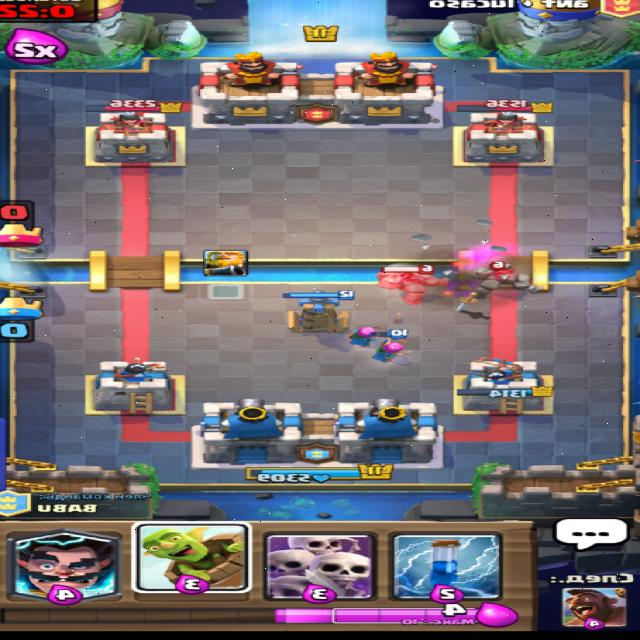Enemy-GolemMini: (468, 260, 546, 300), (377, 264, 452, 305)
Player-Archer: (372, 328, 415, 362), (348, 324, 386, 347)
Player-Tesla: (281, 288, 358, 334)
